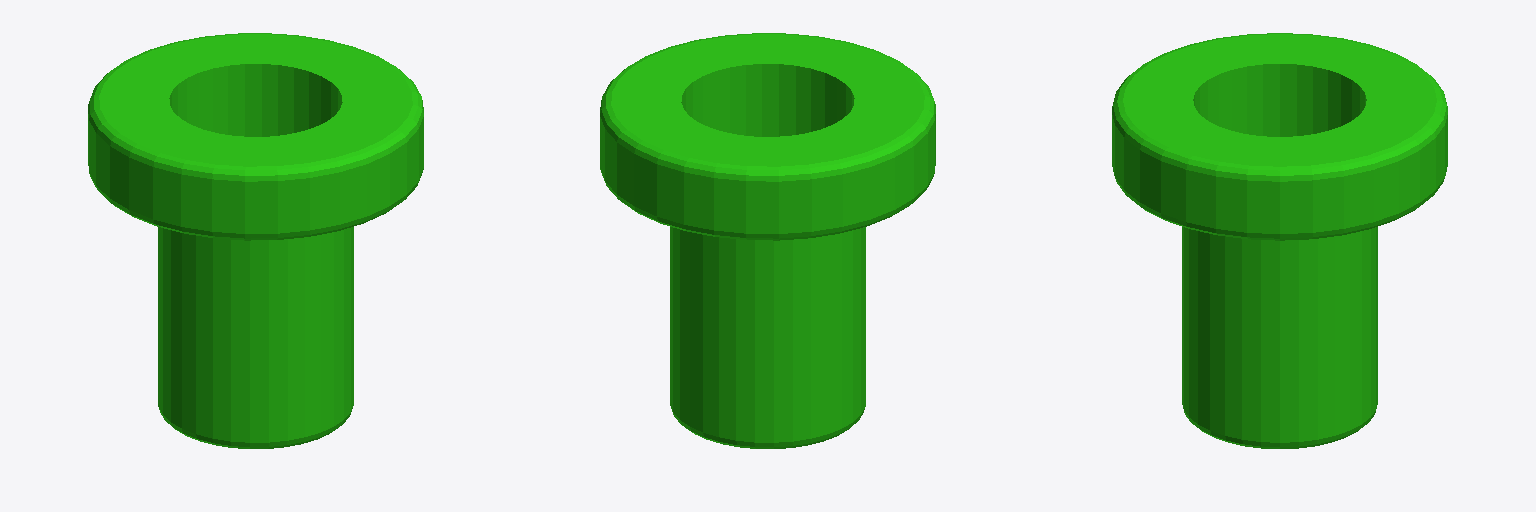
3 renders of one model, left to right at view 1: azimuth 30°, elevation 25°; view 2: azimuth 150°, elevation 25°; view 3: azimuth 270°, elevation 25°, orthographic.
Parts seen in each view (by area): view 1: Pipe.338; view 2: Pipe.338; view 3: Pipe.338.
Boxes of the visible parts, x1=… form: Pipe.338: x1=88, y1=33, x2=423, y2=448; Pipe.338: x1=600, y1=33, x2=935, y2=448; Pipe.338: x1=1112, y1=33, x2=1447, y2=448.
Bounding box in the file's own units: 3.43 × 3.49 × 3.43.
Materials: 1 (1 with a texture image).